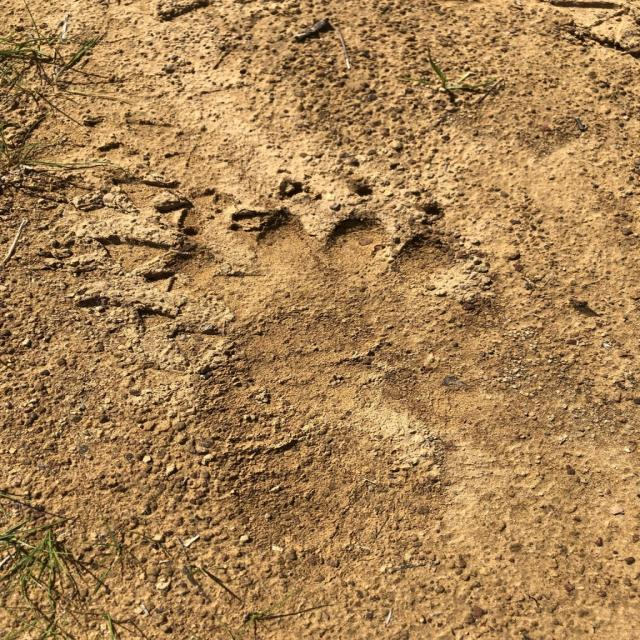bear: (173, 212, 445, 436)
